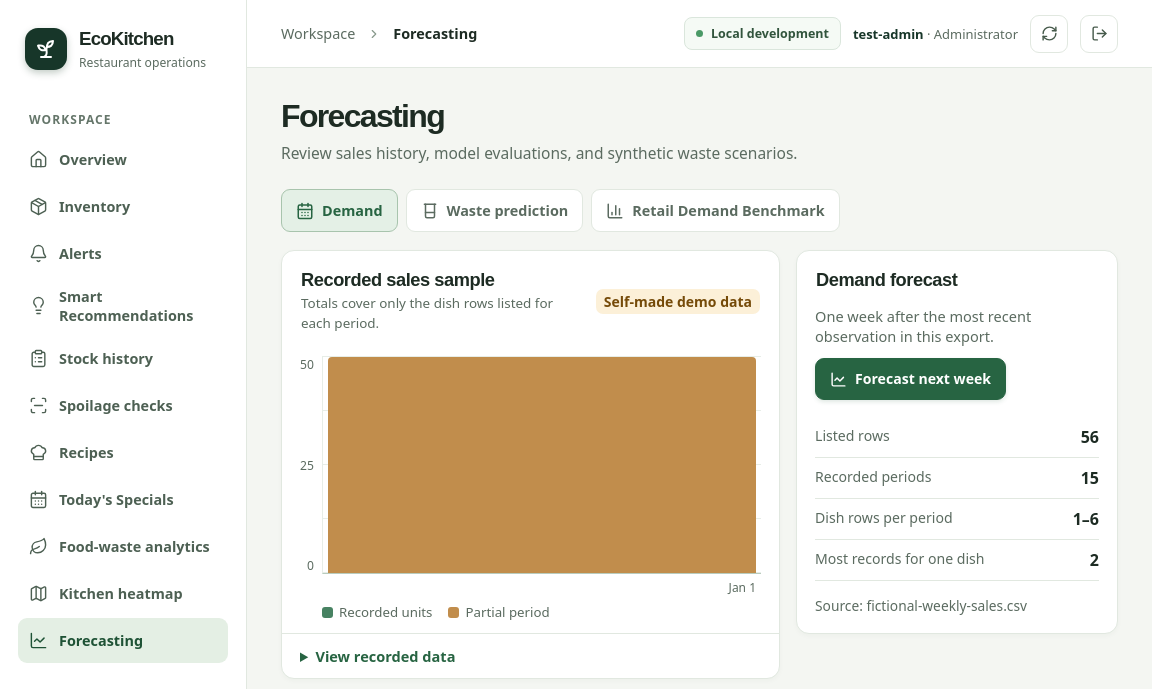
Test case: Forecasting dashboard › shows a prediction error without inventing output when an artifact disappears
The width and height of the screenshot is (1152, 689).
Click the button "Forecast next week" at (910, 379), box left=815, top=358, right=1006, bottom=400
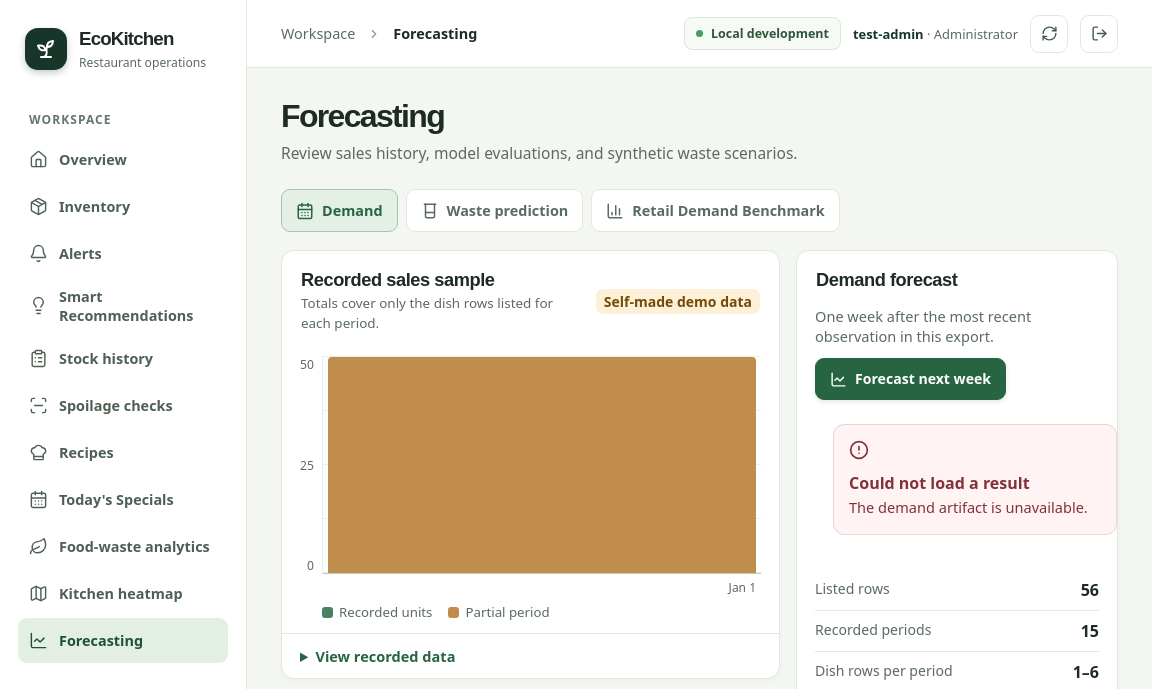
Expected: the message shows "The demand artifact is unavailable.", left=849, top=497, right=1088, bottom=517
